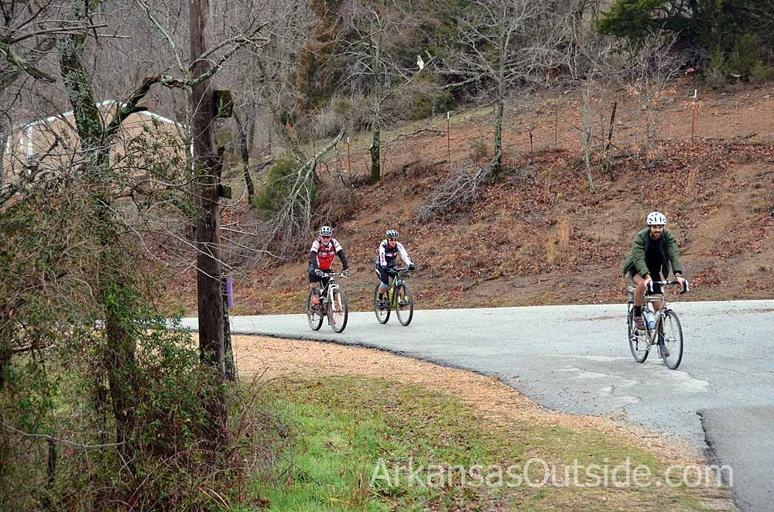non-vehicle: (622, 276, 689, 370), (371, 259, 415, 325), (304, 268, 348, 332)
